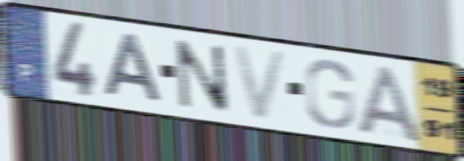4: (50, 18, 100, 101)
A: (355, 63, 425, 145), (102, 31, 166, 106)
G: (302, 57, 357, 131)
N: (172, 37, 234, 117)
V: (229, 42, 291, 124)
